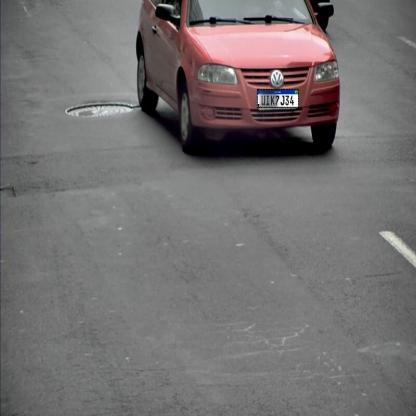PlacaM: (257, 89, 299, 108)
